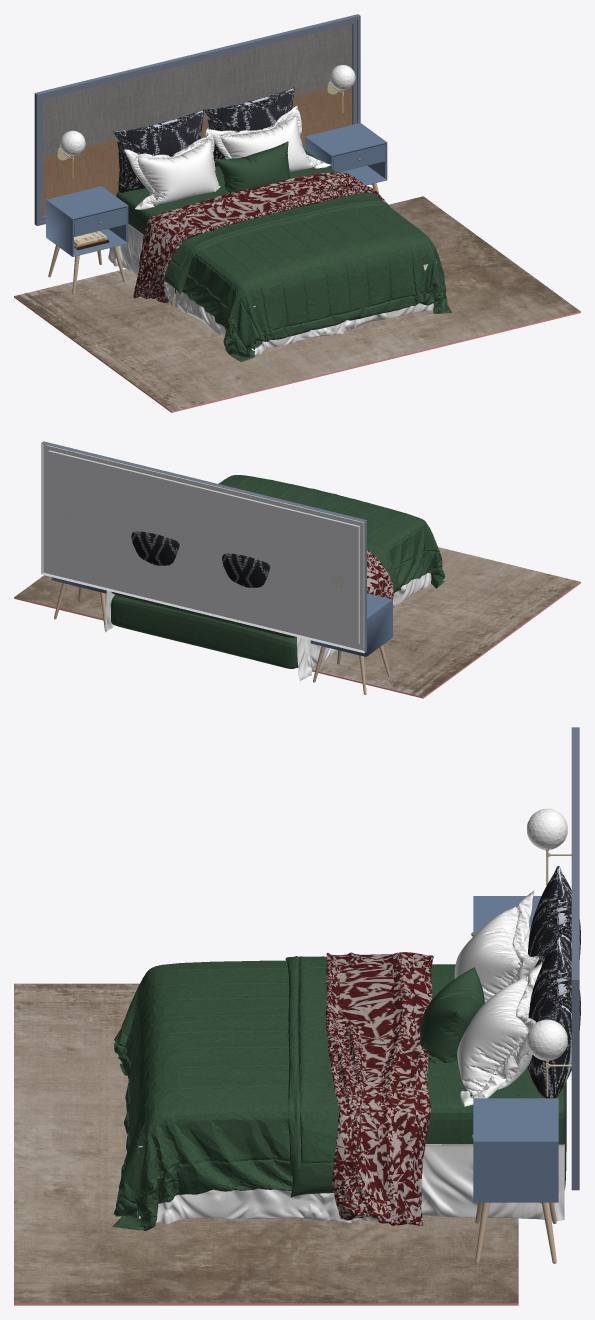
File: beds_and_nightstands.glb
The picture shows the model from 3 angles, top to bottom: view 1: azimuth 30°, elevation 25°; view 2: azimuth 150°, elevation 25°; view 3: azimuth 270°, elevation 25°; orthographic projection. The views are drawn at different scales.
Parts seen in each view (by area): view 1: mesh_11_ROOT__Component_756688__DDR840RVS05400X_Layer0_205_2, mesh_5_ROOT__Component_756688__AAAAAA+CAMA+AZUL__Agrupar#3__, mesh_16_ROOT__Component_756688__组#2_Layer0_214_209_198_ss, mesh_4_ROOT__Component_756688__AAAAAA+CAMA+AZUL__Agrupar#3__, mesh_40_ROOT__Component_756688__组#5__Component_756624__Compo, mesh_13_ROOT__Component_756688__组#2_Layer0_186_124_76_ss, mesh_15_ROOT__Component_756688__组#2_Layer0_45_55_74_ss, mesh_3_ROOT__Component_756688__AAAAAA+CAMA+AZUL__Agrupar#3__, mesh_69_ROOT__Component_756688__组#8__组#4__Component_756610_L, mesh_43_ROOT__Component_756688__组#5__Component_756623_Layer0, mesh_33_ROOT__Component_756688__组#4__Component_756610_Layer0, mesh_45_ROOT__Component_756688__组#5__Component_756623_Layer0 (+9 smaller); view 2: mesh_14_ROOT__Component_756688__组#2_Layer0_179_182_188_ss, mesh_11_ROOT__Component_756688__DDR840RVS05400X_Layer0_205_2, mesh_5_ROOT__Component_756688__AAAAAA+CAMA+AZUL__Agrupar#3__, mesh_6_ROOT__Component_756688__AAAAAA+CAMA+AZUL__Agrupar#3__, mesh_69_ROOT__Component_756688__组#8__组#4__Component_756610_L, mesh_15_ROOT__Component_756688__组#2_Layer0_45_55_74_ss, mesh_7_ROOT__Component_756688__AAAAAA+CAMA+AZUL__Agrupar#3__, mesh_45_ROOT__Component_756688__组#5__Component_756623_Layer0, mesh_43_ROOT__Component_756688__组#5__Component_756623_Layer0, mesh_4_ROOT__Component_756688__AAAAAA+CAMA+AZUL__Agrupar#3__, mesh_10_ROOT__Component_756688__DDR840RVS05400X_Layer0_255_8, mesh_2_ROOT__Component_756688__AAAAAA+CAMA+AZUL__Agrupar#3__ (+1 smaller); view 3: mesh_11_ROOT__Component_756688__DDR840RVS05400X_Layer0_205_2, mesh_5_ROOT__Component_756688__AAAAAA+CAMA+AZUL__Agrupar#3__, mesh_4_ROOT__Component_756688__AAAAAA+CAMA+AZUL__Agrupar#3__, mesh_40_ROOT__Component_756688__组#5__Component_756624__Compo, mesh_9_ROOT__Component_756688__AAAAAA+CAMA+AZUL__Agrupar#3__, mesh_3_ROOT__Component_756688__AAAAAA+CAMA+AZUL__Agrupar#3__, mesh_33_ROOT__Component_756688__组#4__Component_756610_Layer0, mesh_2_ROOT__Component_756688__AAAAAA+CAMA+AZUL__Agrupar#3__, mesh_45_ROOT__Component_756688__组#5__Component_756623_Layer0, mesh_15_ROOT__Component_756688__组#2_Layer0_45_55_74_ss, mesh_41_ROOT__Component_756688__组#5__Component_756624__Compo, mesh_43_ROOT__Component_756688__组#5__Component_756623_Layer0 (+4 smaller).
Boxes of the visible parts, box(x1,y1,x2,y2) form: mesh_11_ROOT__Component_756688__DDR840RVS05400X_Layer0_205_2: box(14, 196, 580, 411); mesh_5_ROOT__Component_756688__AAAAAA+CAMA+AZUL__Agrupar#3__: box(164, 205, 452, 361); mesh_16_ROOT__Component_756688__组#2_Layer0_214_209_198_ss: box(43, 24, 352, 156); mesh_4_ROOT__Component_756688__AAAAAA+CAMA+AZUL__Agrupar#3__: box(133, 172, 386, 303); mesh_40_ROOT__Component_756688__组#5__Component_756624__Compo: box(124, 105, 331, 209); mesh_13_ROOT__Component_756688__组#2_Layer0_186_124_76_ss: box(43, 86, 352, 215); mesh_15_ROOT__Component_756688__组#2_Layer0_45_55_74_ss: box(34, 14, 360, 225); mesh_3_ROOT__Component_756688__AAAAAA+CAMA+AZUL__Agrupar#3__: box(164, 192, 390, 294); mesh_69_ROOT__Component_756688__组#8__组#4__Component_756610_L: box(46, 186, 128, 256); mesh_43_ROOT__Component_756688__组#5__Component_756623_Layer0: box(113, 109, 204, 192); mesh_33_ROOT__Component_756688__组#4__Component_756610_Layer0: box(305, 123, 387, 185); mesh_45_ROOT__Component_756688__组#5__Component_756623_Layer0: box(203, 87, 294, 166); mesh_14_ROOT__Component_756688__组#2_Layer0_179_182_188_ss: box(41, 443, 364, 653); mesh_11_ROOT__Component_756688__DDR840RVS05400X_Layer0_205_2: box(14, 547, 580, 697); mesh_5_ROOT__Component_756688__AAAAAA+CAMA+AZUL__Agrupar#3__: box(218, 475, 445, 588); mesh_6_ROOT__Component_756688__AAAAAA+CAMA+AZUL__Agrupar#3__: box(111, 595, 298, 668); mesh_69_ROOT__Component_756688__组#8__组#4__Component_756610_L: box(310, 593, 392, 656); mesh_15_ROOT__Component_756688__组#2_Layer0_45_55_74_ss: box(41, 441, 366, 652); mesh_7_ROOT__Component_756688__AAAAAA+CAMA+AZUL__Agrupar#3__: box(296, 573, 431, 680); mesh_45_ROOT__Component_756688__组#5__Component_756623_Layer0: box(131, 531, 179, 565); mesh_43_ROOT__Component_756688__组#5__Component_756623_Layer0: box(222, 553, 270, 587); mesh_4_ROOT__Component_756688__AAAAAA+CAMA+AZUL__Agrupar#3__: box(367, 550, 393, 599); mesh_10_ROOT__Component_756688__DDR840RVS05400X_Layer0_255_8: box(14, 582, 580, 698); mesh_2_ROOT__Component_756688__AAAAAA+CAMA+AZUL__Agrupar#3__: box(111, 591, 296, 638); mesh_11_ROOT__Component_756688__DDR840RVS05400X_Layer0_205_2: box(14, 983, 518, 1303); mesh_5_ROOT__Component_756688__AAAAAA+CAMA+AZUL__Agrupar#3__: box(112, 960, 292, 1230); mesh_4_ROOT__Component_756688__AAAAAA+CAMA+AZUL__Agrupar#3__: box(325, 952, 433, 1225); mesh_40_ROOT__Component_756688__组#5__Component_756624__Compo: box(454, 890, 542, 1106); mesh_9_ROOT__Component_756688__AAAAAA+CAMA+AZUL__Agrupar#3__: box(138, 1144, 564, 1224); mesh_3_ROOT__Component_756688__AAAAAA+CAMA+AZUL__Agrupar#3__: box(285, 956, 339, 1197); mesh_33_ROOT__Component_756688__组#4__Component_756610_Layer0: box(473, 1098, 558, 1202); mesh_2_ROOT__Component_756688__AAAAAA+CAMA+AZUL__Agrupar#3__: box(425, 964, 566, 1144); mesh_45_ROOT__Component_756688__组#5__Component_756623_Layer0: box(527, 936, 580, 1098); mesh_15_ROOT__Component_756688__组#2_Layer0_45_55_74_ss: box(571, 727, 579, 1190); mesh_41_ROOT__Component_756688__组#5__Component_756624__Compo: box(420, 967, 484, 1064); mesh_43_ROOT__Component_756688__组#5__Component_756623_Layer0: box(528, 866, 580, 967).
Size of the model in its own units: 3720 by 1570 by 2787.
Materials: 25 (11 with a texture image).
